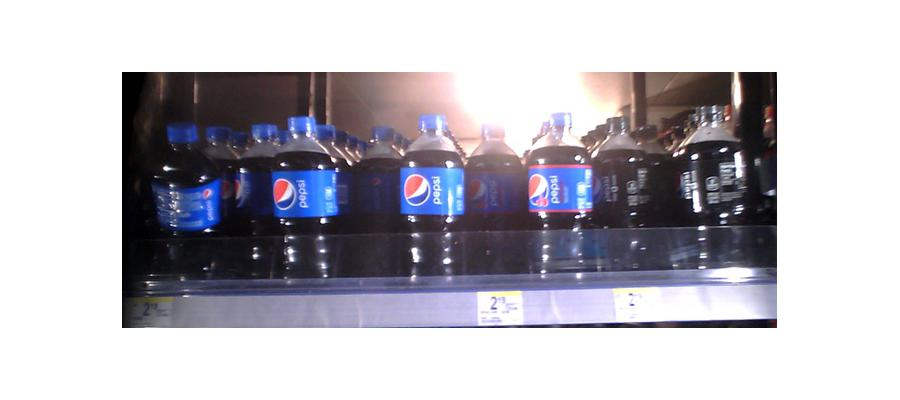bottle: (265, 112, 338, 277), (144, 121, 221, 273), (396, 113, 465, 280), (528, 110, 595, 280), (684, 98, 751, 267), (466, 121, 525, 278), (350, 126, 400, 278)
